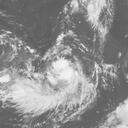cyclone: (42, 55, 86, 99)
